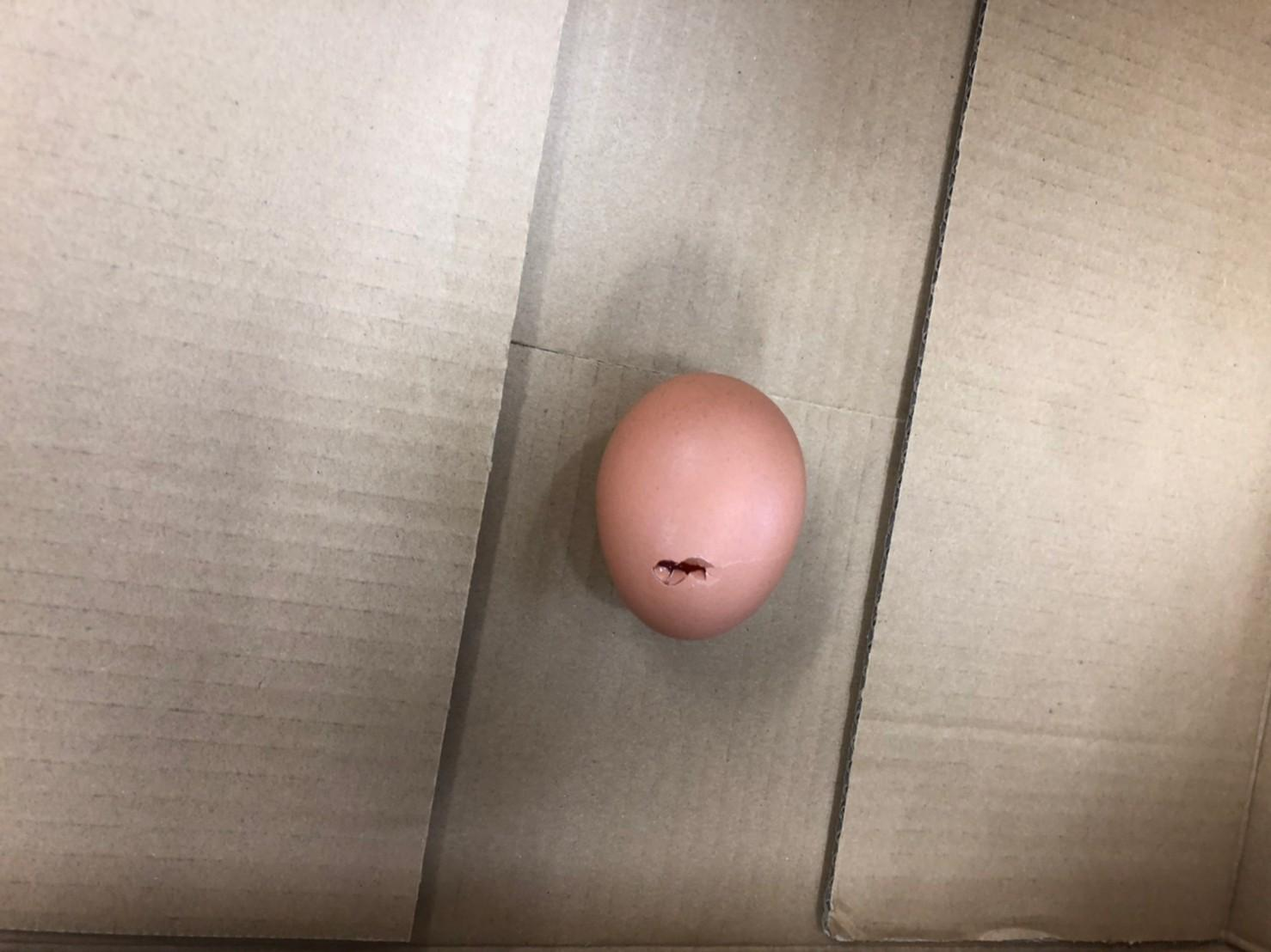egg: (585, 360, 817, 646)
